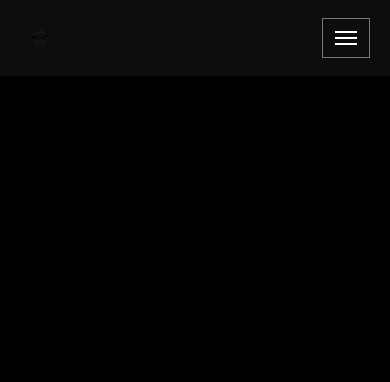
Facture Sneakers - Navbar › debe abrir y cerrar el menú móvil con el botón hamburguesa
This screenshot has width=390, height=382.
Later steps or results of the test are not shown.
Click the button named "Abrir o cerrar menú" at (346, 38), box [322, 18, 370, 58]
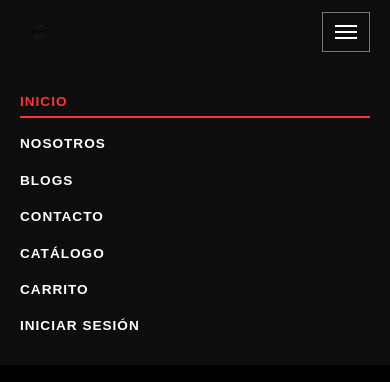
Result: the button named "Abrir o cerrar menú" is expanded at [322, 12, 370, 52]
